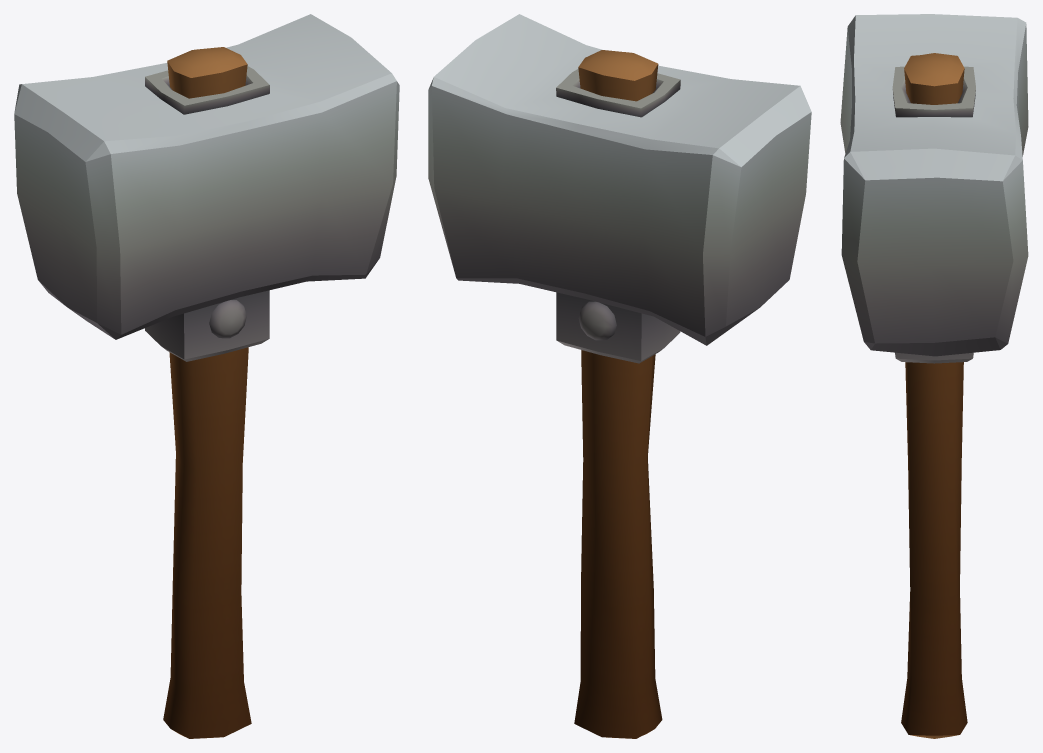
The model's file is Hammer_03.glb.
3 renders of one model, left to right at view 1: azimuth 30°, elevation 25°; view 2: azimuth 150°, elevation 25°; view 3: azimuth 270°, elevation 25°, orthographic.
Visible parts, largest first — view 1: Hammer_03; view 2: Hammer_03; view 3: Hammer_03.
Boxes of the visible parts, <box> form: Hammer_03: <box>14,14,399,738</box>; Hammer_03: <box>428,14,811,738</box>; Hammer_03: <box>840,14,1028,738</box>.
Bounding box in the file's own units: 0.509 × 1.03 × 0.263.
1 material, 1 textured.
